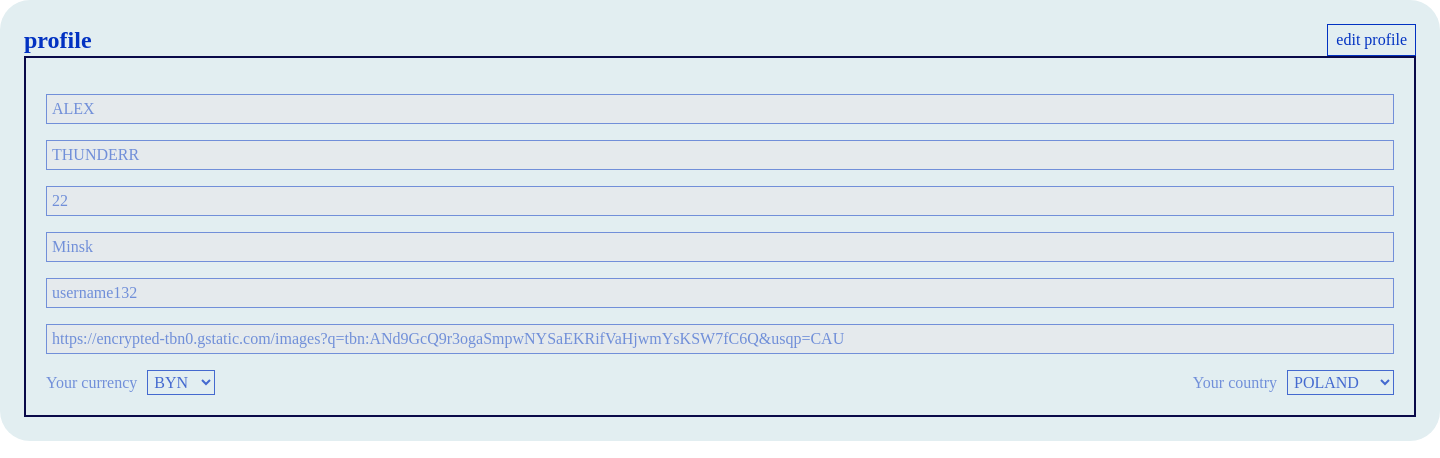
EditableProfileCard › read only mode should be switched when edit button is clicked
Click the button with test id "EditableProfileCardHeader.EditButton" at (1372, 40), box x1=1327 y1=24 x2=1416 y2=56
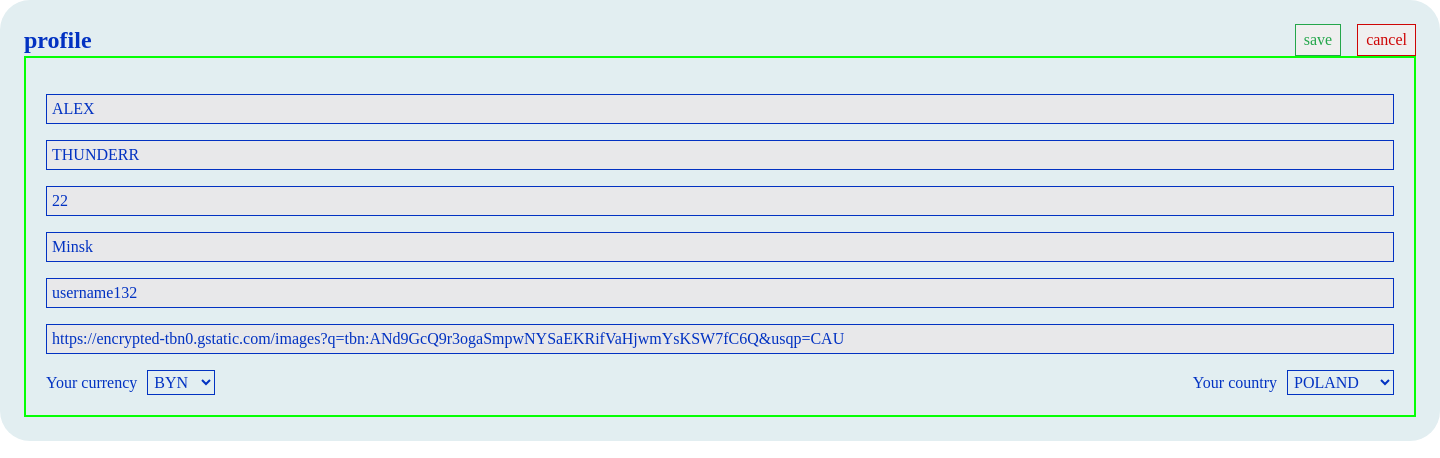
Expected: the button with test id "EditableProfileCardHeader.CancelButton" is shown, x1=1357 y1=24 x2=1416 y2=56
Expected: the button with test id "EditableProfileCardHeader.SaveButton" is shown, x1=1295 y1=24 x2=1341 y2=56
